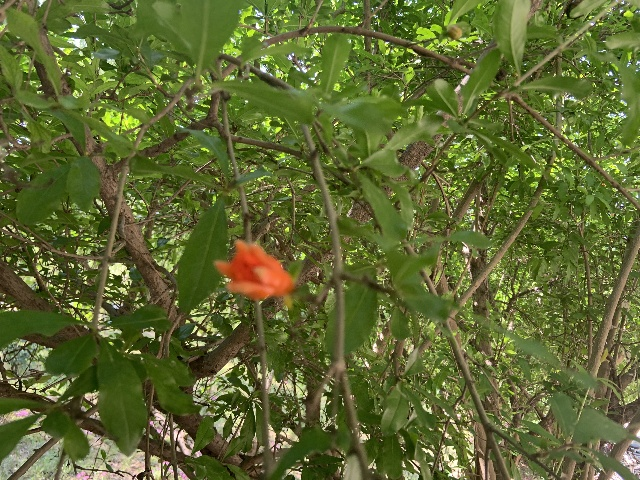bud: (446, 26, 462, 39)
flower: (214, 240, 295, 300)
